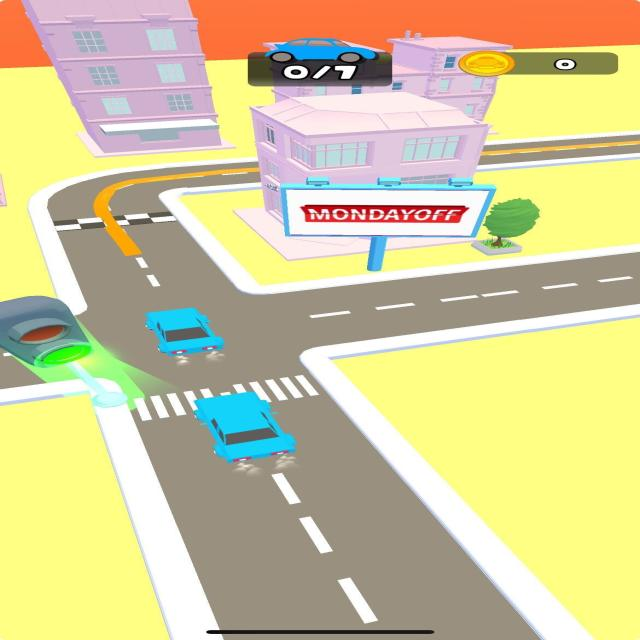billboard: (282, 186, 497, 238)
